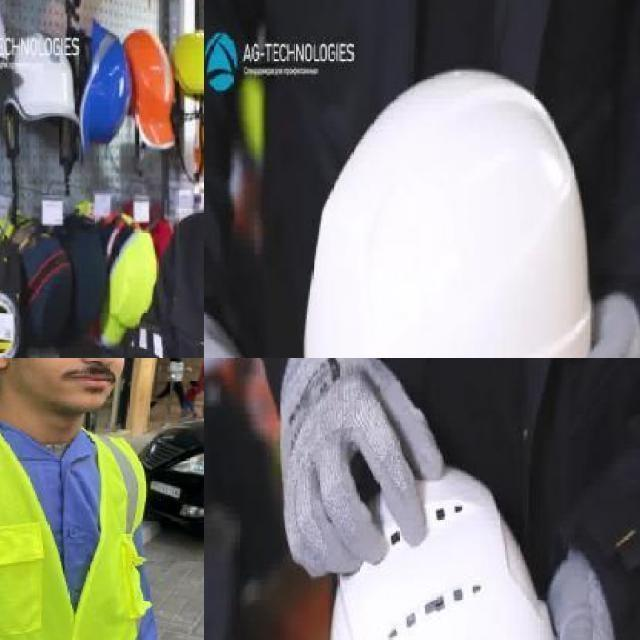apron: (278, 358, 444, 578), (518, 546, 618, 640), (539, 289, 640, 358)
